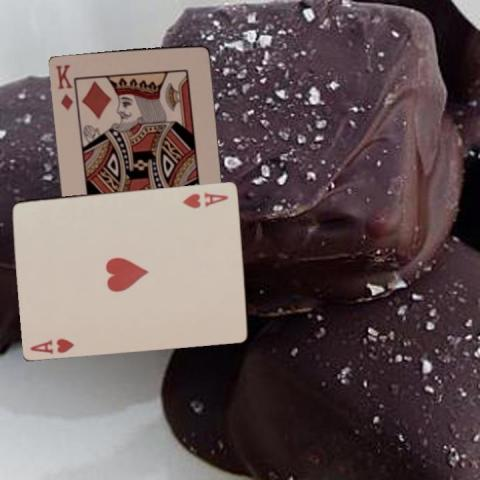Ah: (180, 189, 230, 209), (27, 335, 76, 355)
Kd: (53, 61, 74, 112)
